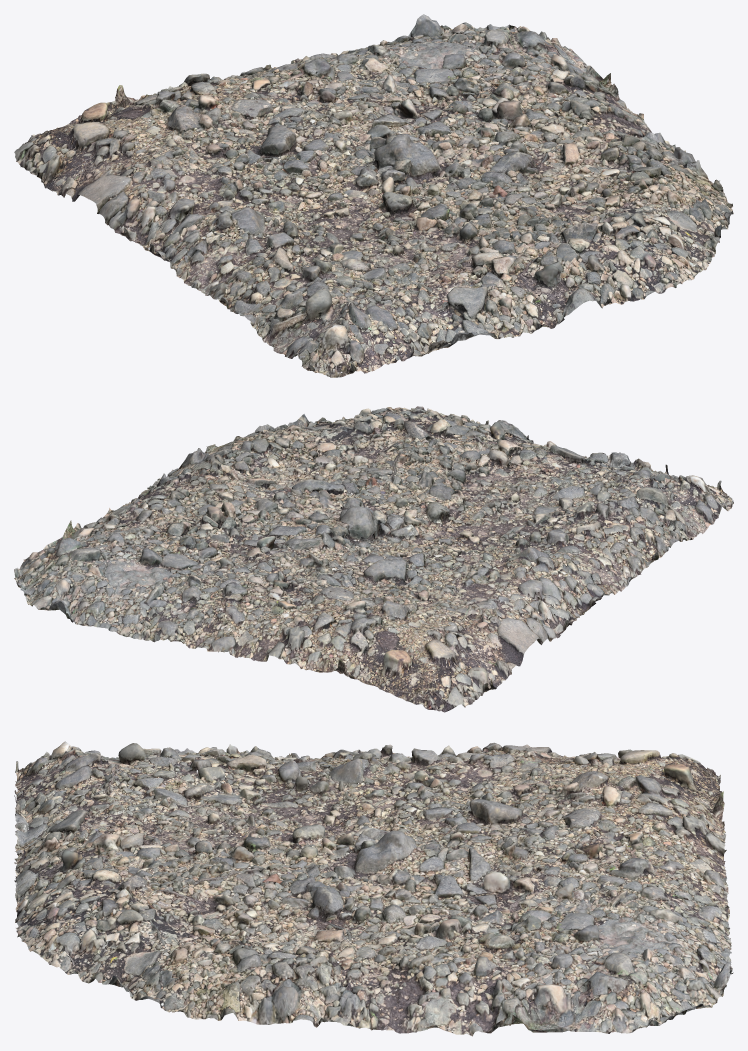
The model's file is photoscanned_patch_of_ground.glb.
3 views of the same model, one above another, from view 1: azimuth 30°, elevation 25°; view 2: azimuth 150°, elevation 25°; view 3: azimuth 270°, elevation 25° (orthographic). The views are drawn at different scales.
Visible parts, largest first — view 1: RockyGroundPatch01_Final; view 2: RockyGroundPatch01_Final; view 3: RockyGroundPatch01_Final.
Boxes of the visible parts, left/top/right/bottom form: RockyGroundPatch01_Final: left=14, top=14, right=733, bottom=377; RockyGroundPatch01_Final: left=14, top=406, right=733, bottom=712; RockyGroundPatch01_Final: left=14, top=741, right=733, bottom=1036.
Size of the model in its own units: 4.86 by 0.5651 by 5.31.
1 material, 1 textured.
